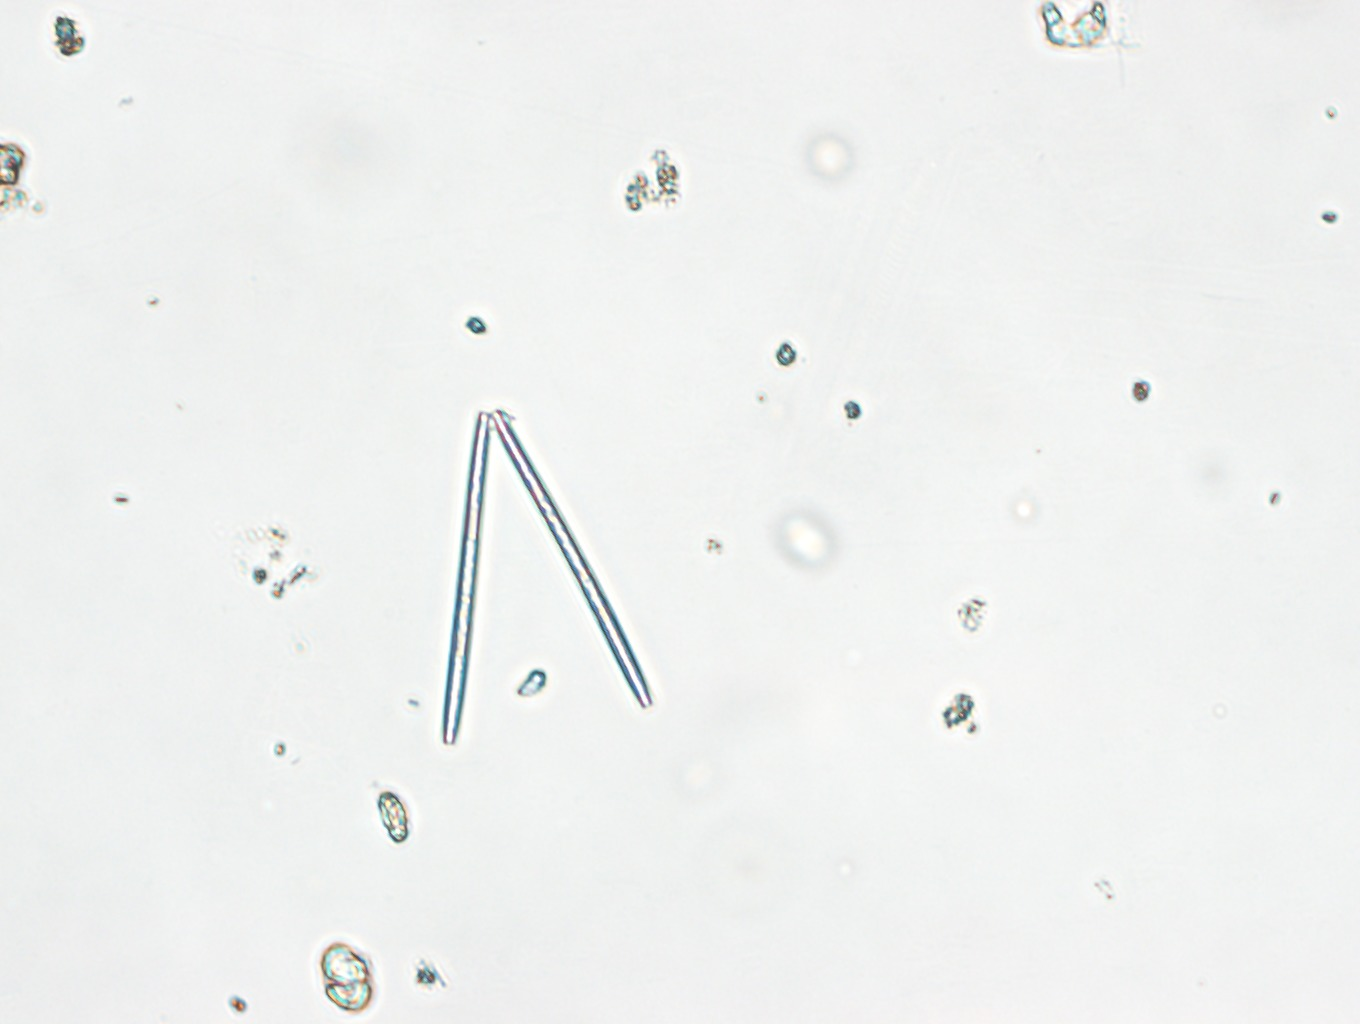thalassionema frauenfeldii: (428, 406, 661, 746)
